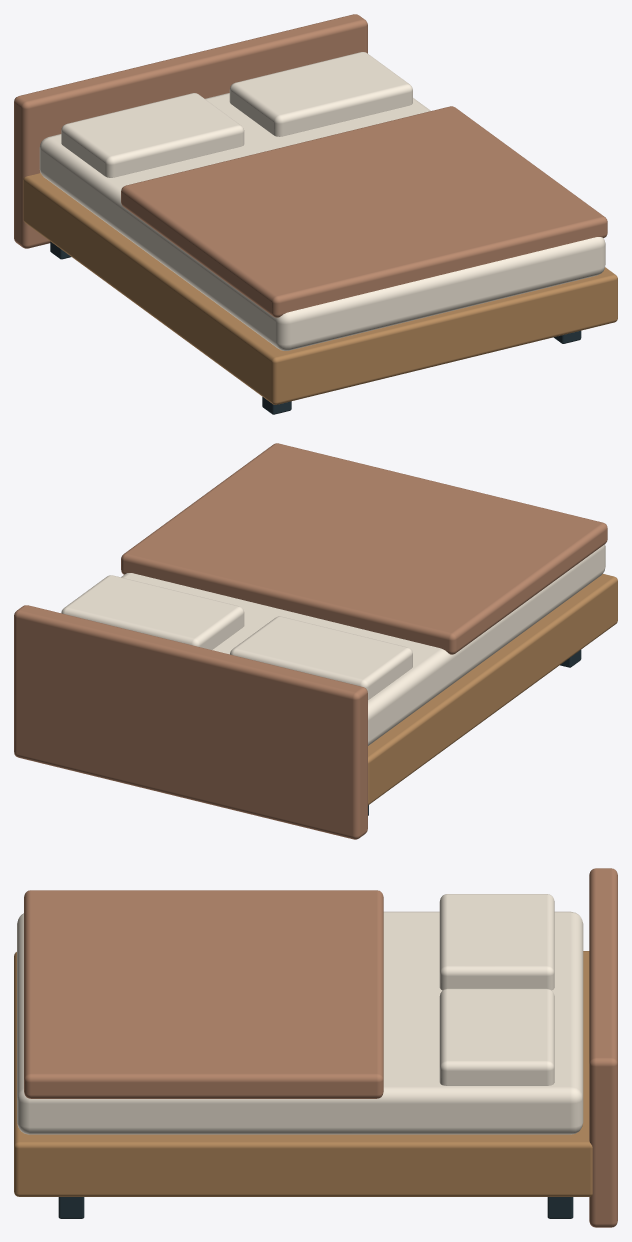
The model's file is bed.glb.
3 renders of one model, top to bottom at view 1: azimuth 30°, elevation 25°; view 2: azimuth 150°, elevation 25°; view 3: azimuth 270°, elevation 25°, orthographic. The views are drawn at different scales.
Parts seen in each view (by area): view 1: poc-bed-part-28, poc-bed-part-25, poc-bed-part-27, poc-bed-part-26, poc-bed-part-29, poc-bed-part-30; view 2: poc-bed-part-28, poc-bed-part-26, poc-bed-part-25, poc-bed-part-27, poc-bed-part-29, poc-bed-part-30; view 3: poc-bed-part-28, poc-bed-part-27, poc-bed-part-25, poc-bed-part-30, poc-bed-part-29, poc-bed-part-26, poc-bed-part-33, poc-bed-part-34.
Boxes of the visible parts, x1=… form: poc-bed-part-28: x1=121, y1=106, x2=607, y2=317; poc-bed-part-25: x1=23, y1=173, x2=617, y2=404; poc-bed-part-27: x1=39, y1=93, x2=605, y2=350; poc-bed-part-26: x1=14, y1=14, x2=367, y2=248; poc-bed-part-29: x1=61, y1=93, x2=244, y2=177; poc-bed-part-30: x1=229, y1=52, x2=412, y2=136; poc-bed-part-28: x1=121, y1=443, x2=607, y2=654; poc-bed-part-26: x1=14, y1=605, x2=367, y2=839; poc-bed-part-25: x1=368, y1=574, x2=617, y2=805; poc-bed-part-27: x1=121, y1=544, x2=605, y2=745; poc-bed-part-29: x1=230, y1=616, x2=412, y2=699; poc-bed-part-30: x1=61, y1=575, x2=244, y2=649; poc-bed-part-28: x1=24, y1=890, x2=383, y2=1098; poc-bed-part-27: x1=17, y1=911, x2=583, y2=1134; poc-bed-part-25: x1=14, y1=951, x2=592, y2=1196; poc-bed-part-30: x1=439, y1=988, x2=554, y2=1085; poc-bed-part-29: x1=439, y1=894, x2=554, y2=990; poc-bed-part-26: x1=589, y1=868, x2=617, y2=1227; poc-bed-part-33: x1=547, y1=1197, x2=573, y2=1218; poc-bed-part-34: x1=58, y1=1197, x2=84, y2=1218.
Size of the model in its own units: 1.6 by 0.65 by 2.1.
